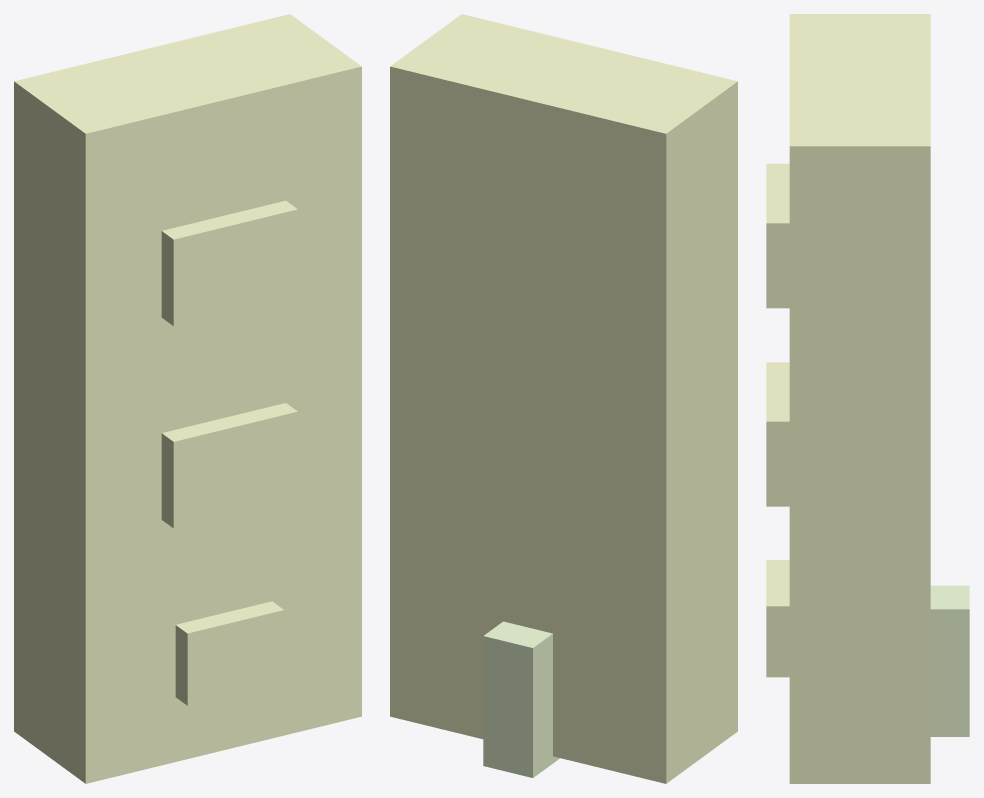
File: signal_bus_priority_bar_3_aspect.glb
3 views of the same model, side by side, from view 1: azimuth 30°, elevation 25°; view 2: azimuth 150°, elevation 25°; view 3: azimuth 270°, elevation 25° (orthographic).
Visible parts, largest first — view 1: housing, display_bus_go, display_bus_stop, display_bus_call; view 2: housing, bracket; view 3: housing, bracket, display_bus_stop, display_bus_go, display_bus_call.
Part boxes in pixels (x1,y1,x2,y2): housing: (14, 14, 361, 783); display_bus_go: (161, 403, 297, 528); display_bus_stop: (161, 200, 297, 326); display_bus_call: (175, 601, 283, 705); housing: (390, 14, 737, 783); bracket: (483, 621, 559, 777); housing: (789, 14, 930, 783); bracket: (930, 585, 969, 736); display_bus_stop: (766, 163, 789, 308); display_bus_go: (766, 362, 789, 506); display_bus_call: (766, 560, 789, 677).
Size of the model in its own units: 0.4 by 0.91 by 0.26.
